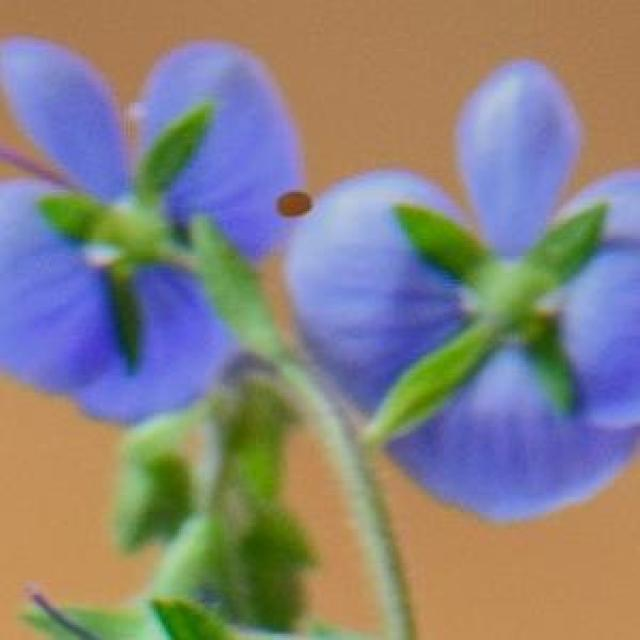Bactidol: (263, 169, 326, 230)
